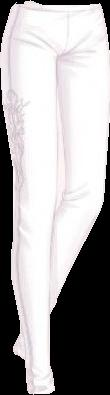Hemline: (27, 388, 56, 394)
Pantleg: (13, 4, 108, 358), (0, 4, 70, 394)
Waistline: (12, 1, 102, 9)
